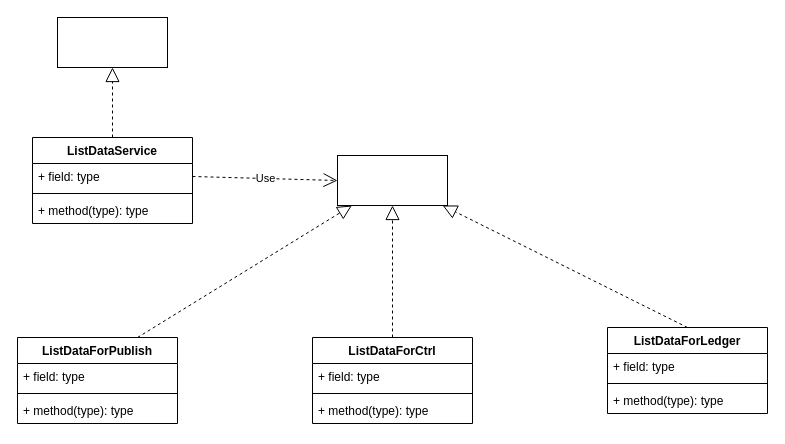
Image size: 785x444. Some labels were removed from this diagram. Each missing label, with the centre of its shape:
«interface» IListData: point (392, 180)
«interface» IListDataService: point (112, 42)
